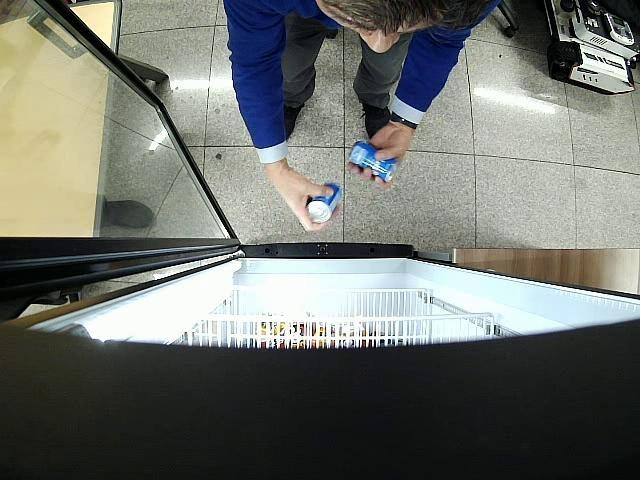15_letsbe: (349, 142, 399, 183), (305, 183, 342, 223)
